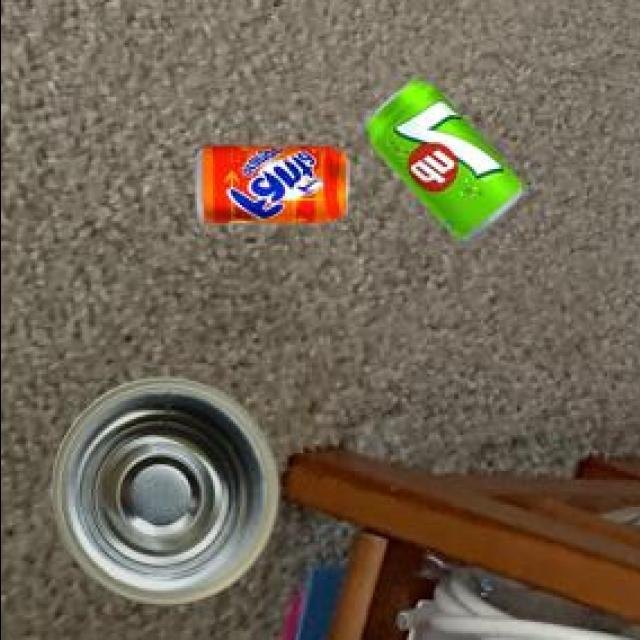logam: (55, 382, 281, 607), (368, 82, 524, 242), (199, 150, 350, 226)
